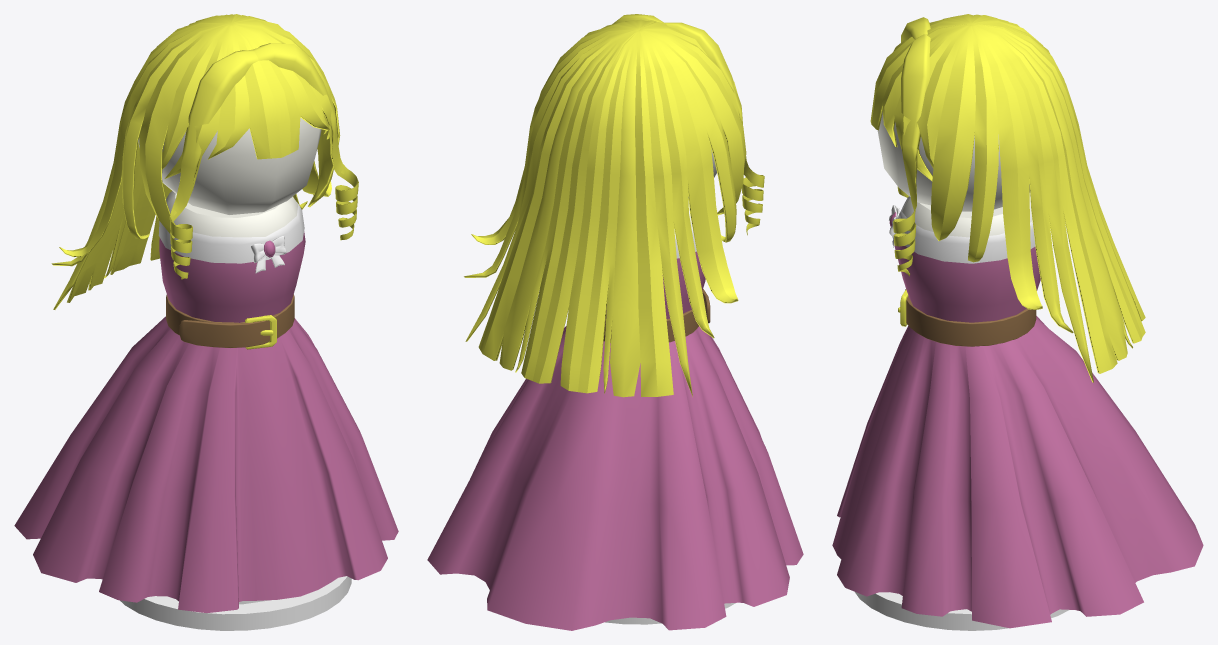
Rendered from Ojyou.fbx.
The picture shows the model from 3 angles, left to right: view 1: azimuth 30°, elevation 25°; view 2: azimuth 150°, elevation 25°; view 3: azimuth 270°, elevation 25°; orthographic projection. The views are drawn at different scales.
Parts seen in each view (by area): view 1: oj; view 2: oj; view 3: oj.
Part boxes in pixels (x1=…): oj: x1=14, y1=14, x2=398, y2=630; oj: x1=427, y1=14, x2=803, y2=630; oj: x1=832, y1=14, x2=1203, y2=630.
Size of the model in its own units: 111 by 173 by 105.
